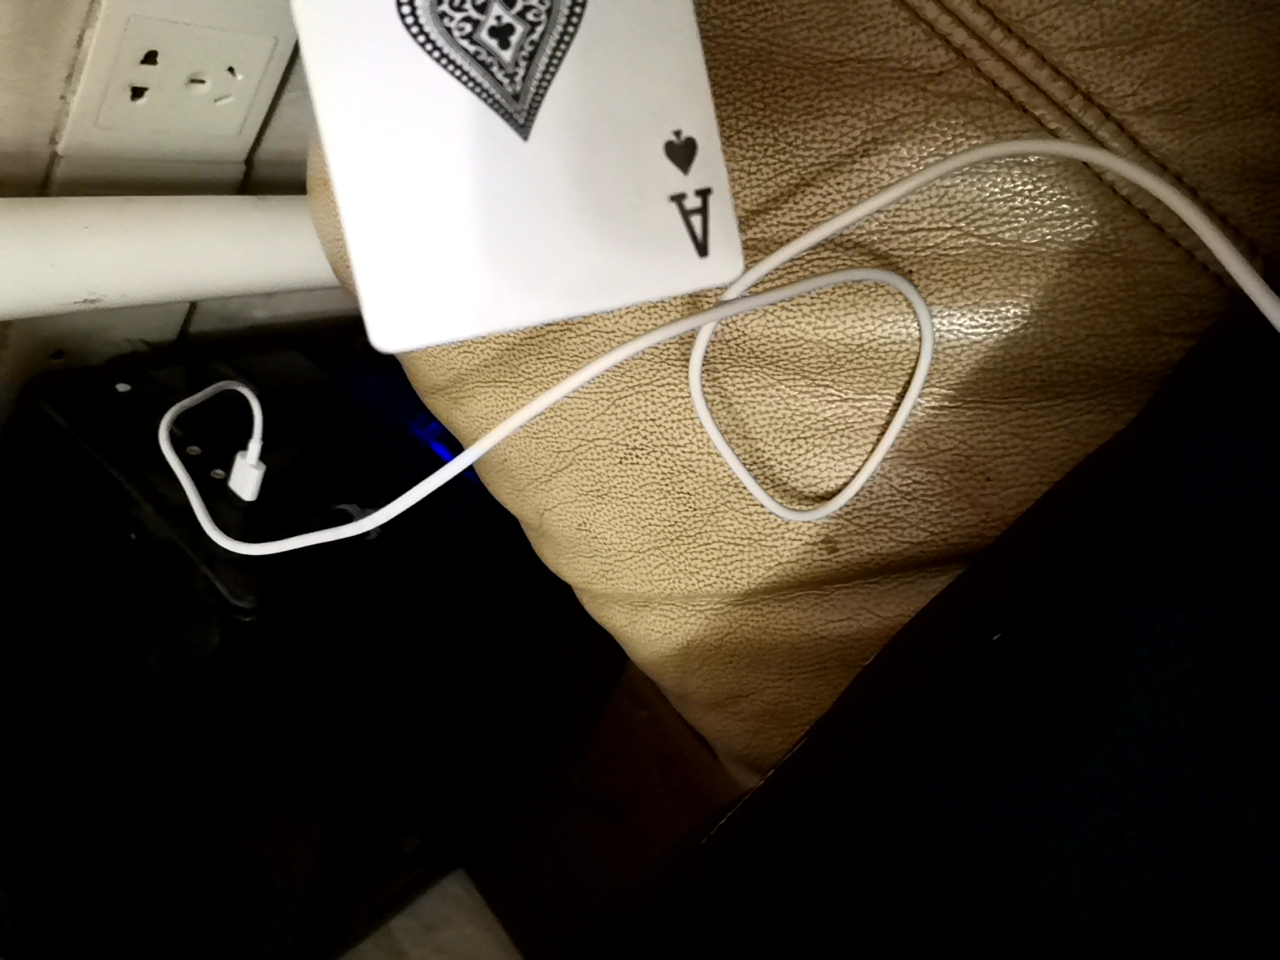ht a: (183, 8, 769, 353)
